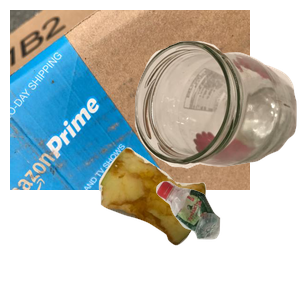cardboard: (10, 10, 250, 190)
glass: (132, 38, 300, 199)
plastic: (153, 178, 300, 300)
trash: (96, 145, 295, 300)
